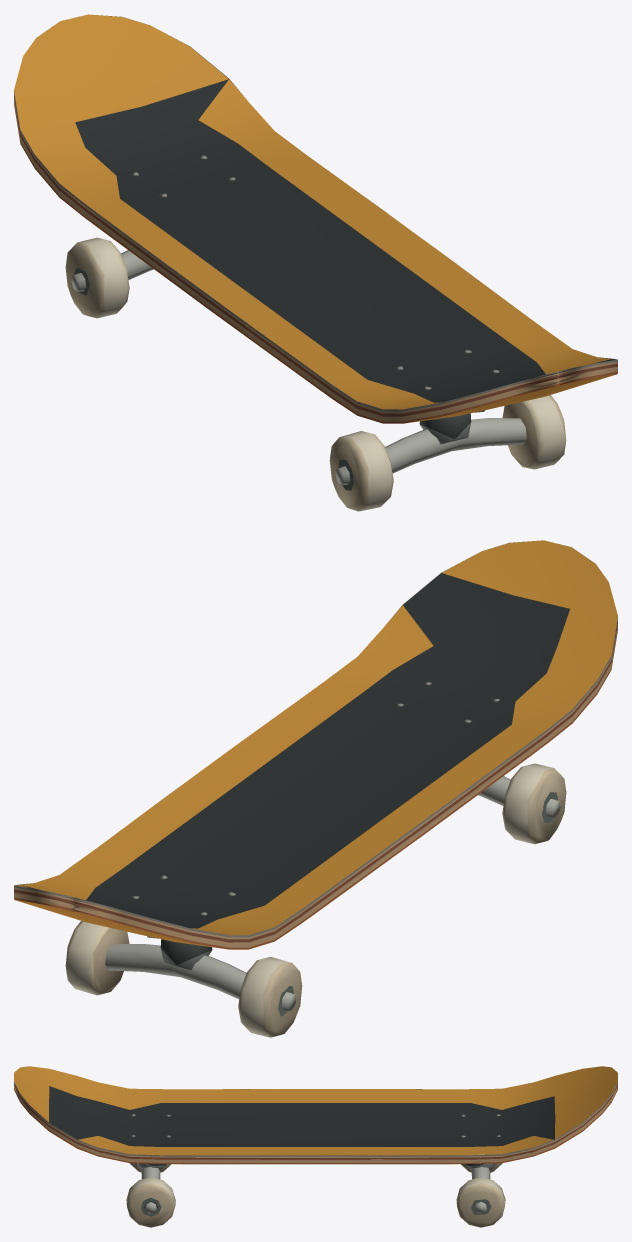
Rendered from kaj-deck-lod.glb.
3 views of the same model, one above another, from view 1: azimuth 30°, elevation 25°; view 2: azimuth 150°, elevation 25°; view 3: azimuth 270°, elevation 25° (orthographic). The views are drawn at different scales.
Parts seen in each view (by area): view 1: Kaj • Citrus Line 8.25; view 2: Kaj • Citrus Line 8.25; view 3: Kaj • Citrus Line 8.25.
Part boxes in pixels (bbox=[...]): Kaj • Citrus Line 8.25: bbox=[14, 14, 617, 511]; Kaj • Citrus Line 8.25: bbox=[14, 540, 617, 1037]; Kaj • Citrus Line 8.25: bbox=[14, 1066, 617, 1227].
Bounding box in the file's own units: 0.2243 × 0.1909 × 0.8601.
